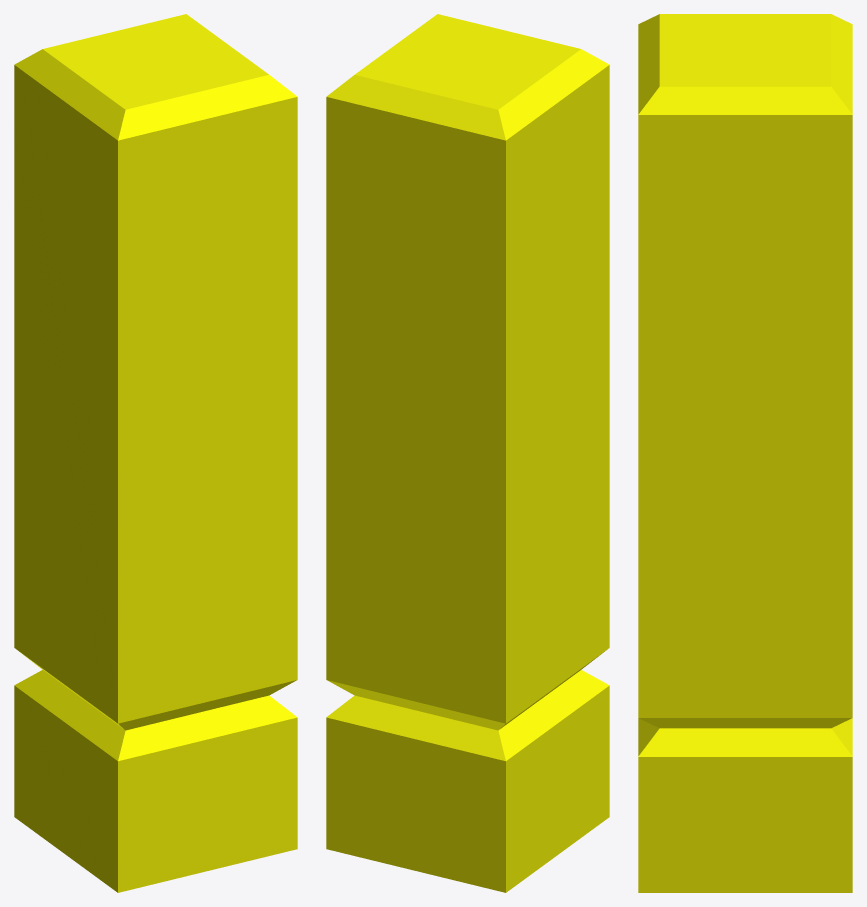
Rendered from kaykit-pillar-b.glb.
3 views of the same model, side by side, from view 1: azimuth 30°, elevation 25°; view 2: azimuth 150°, elevation 25°; view 3: azimuth 270°, elevation 25° (orthographic). The views are drawn at different scales.
Parts seen in each view (by area): view 1: Pillar_B; view 2: Pillar_B; view 3: Pillar_B.
Part boxes in pixels (<box>): Pillar_B: <box>14,14,297,892</box>; Pillar_B: <box>326,14,609,892</box>; Pillar_B: <box>638,14,852,892</box>.
Size of the model in its own units: 1 by 4.1 by 1.
